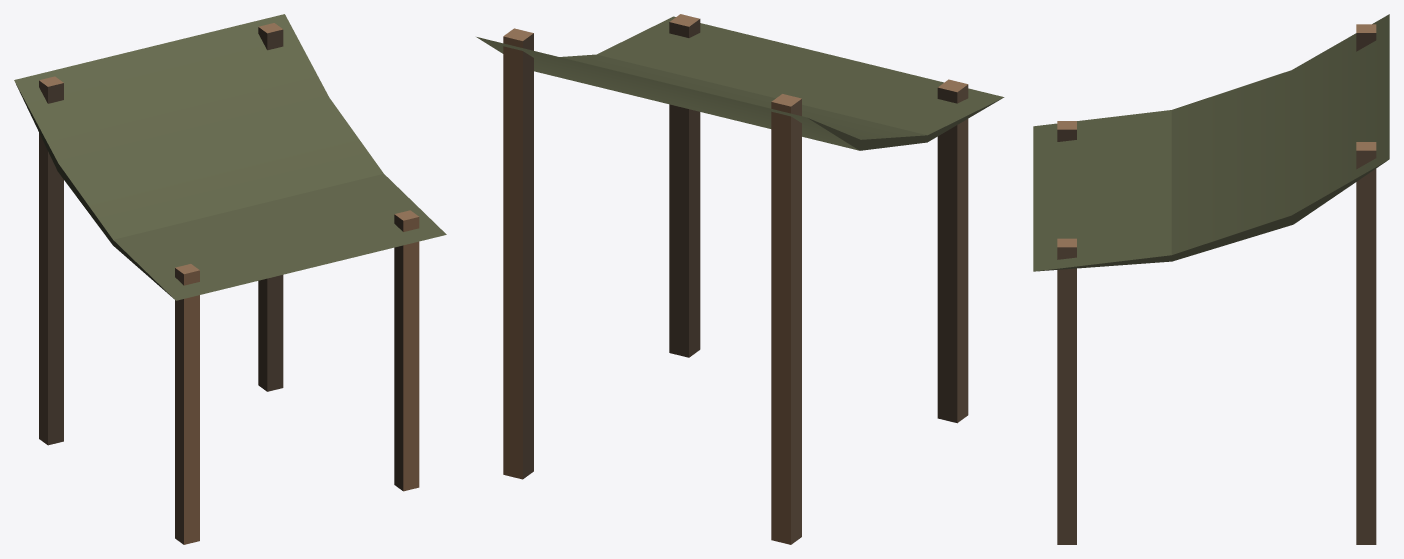
File: TB_D_Prop_StoreTent_D.FBX
The picture shows the model from 3 angles, left to right: view 1: azimuth 30°, elevation 25°; view 2: azimuth 150°, elevation 25°; view 3: azimuth 270°, elevation 25°; orthographic projection. The views are drawn at different scales.
Parts seen in each view (by area): view 1: TB_D_Prop_StoreTent_D; view 2: TB_D_Prop_StoreTent_D; view 3: TB_D_Prop_StoreTent_D.
Boxes of the visible parts, x1,y1,x2,y2 form: TB_D_Prop_StoreTent_D: [14, 14, 446, 544]; TB_D_Prop_StoreTent_D: [476, 14, 1004, 544]; TB_D_Prop_StoreTent_D: [1033, 14, 1389, 544].
Bounding box in the file's own units: 2.33 × 2.95 × 2.41.
